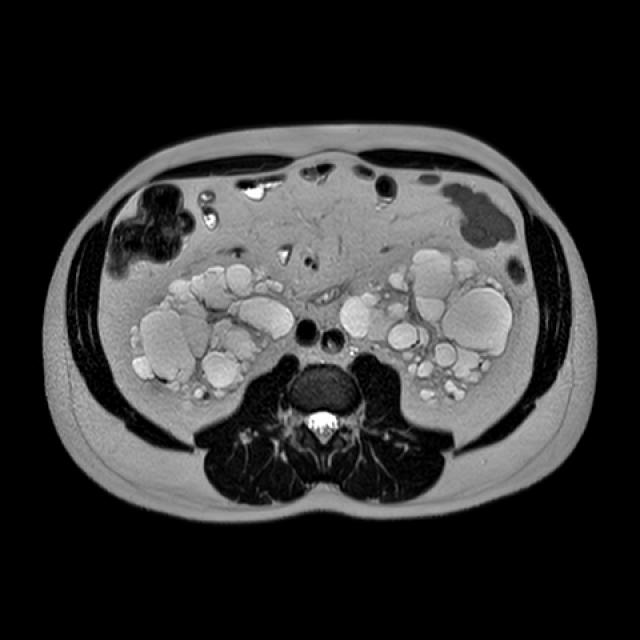sag: (128, 260, 302, 411)
sol: (341, 250, 513, 409)
